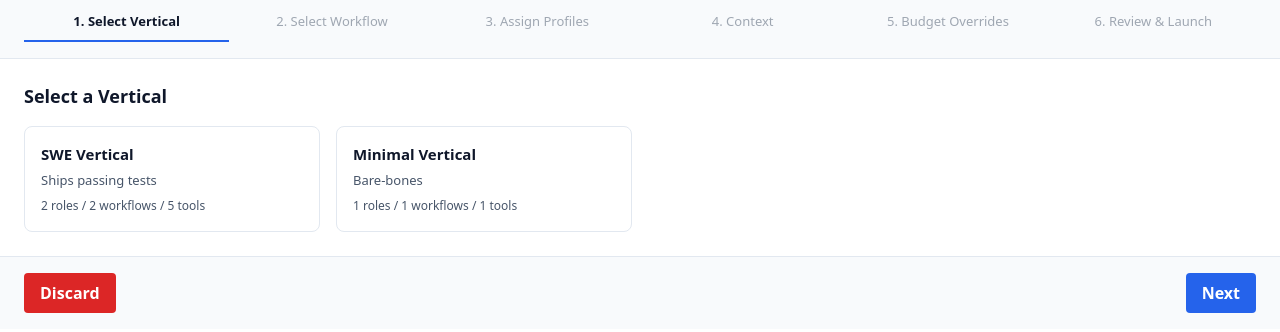
it: Wizard step 1 — Select Vertical › Next click posts to /api/sessions and advances to step 2
This screenshot has width=1280, height=332.
Click the text "SWE Vertical" at point(87, 154), box [41, 144, 134, 164]
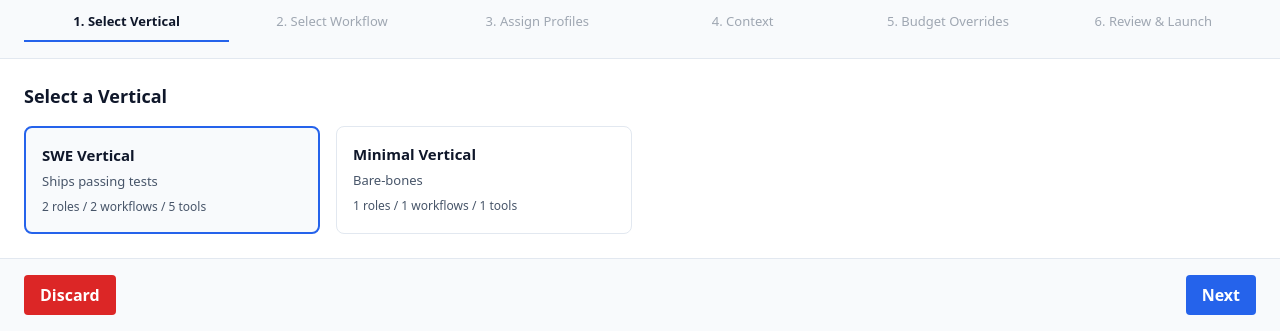
Click the button "Next" at point(1221, 295), box [1186, 275, 1256, 315]
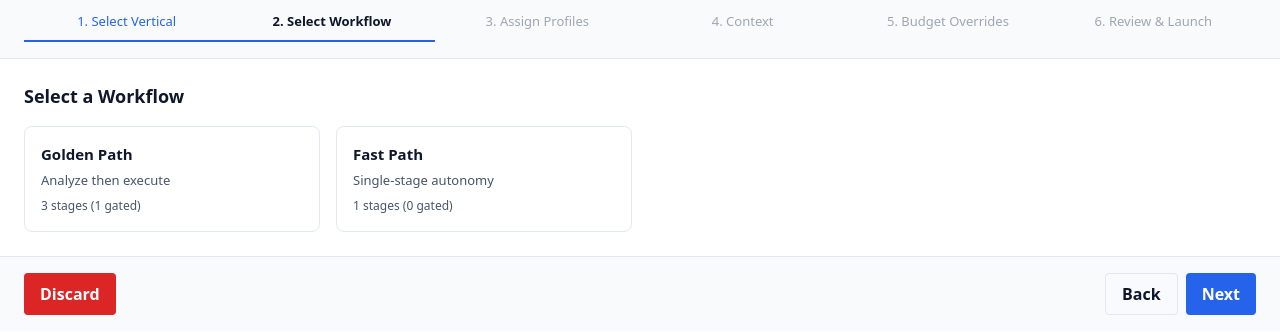
expect the heading "Select a Workflow" is shown: met, box [24, 84, 184, 108]
